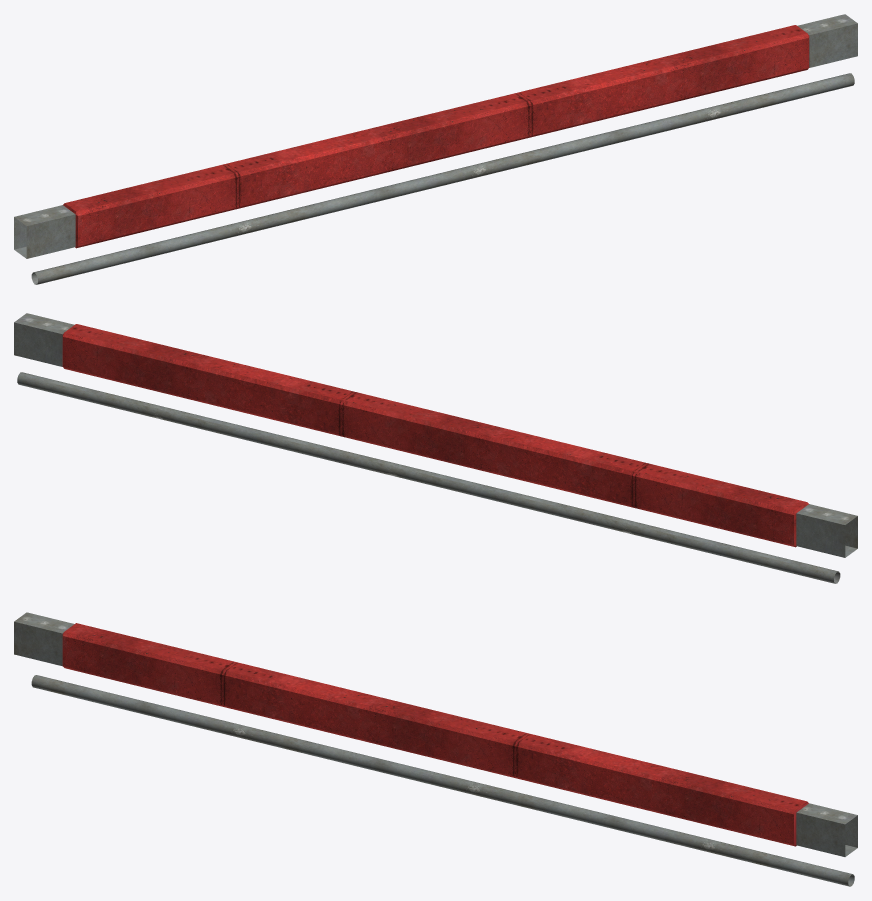
File: Ob_PlatformEndBarrier_RC.fbx
3 views of the same model, one above another, from view 1: azimuth 30°, elevation 25°; view 2: azimuth 150°, elevation 25°; view 3: azimuth 330°, elevation 25° (orthographic).
Parts seen in each view (by area): view 1: Ob_PlatformEndBarrier_RC; view 2: Ob_PlatformEndBarrier_RC; view 3: Ob_PlatformEndBarrier_RC.
Boxes of the visible parts, left/top/right/bottom form: Ob_PlatformEndBarrier_RC: left=14, top=14, right=857, bottom=284; Ob_PlatformEndBarrier_RC: left=14, top=313, right=857, bottom=583; Ob_PlatformEndBarrier_RC: left=14, top=612, right=857, bottom=886.
Bounding box in the file's own units: 1034 × 81.47 × 32.69.
